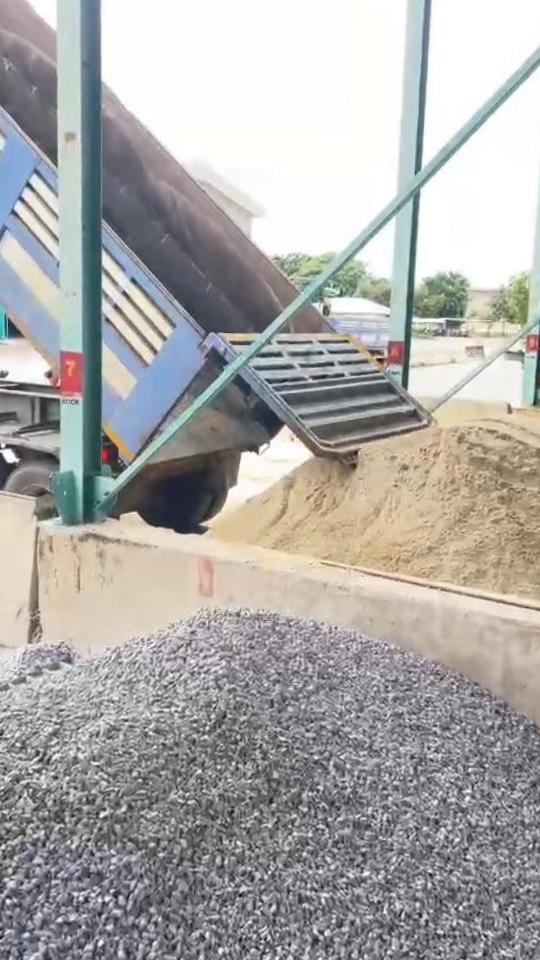gravel: (0, 610, 540, 960), (0, 641, 77, 700)
sand: (213, 413, 540, 606)
